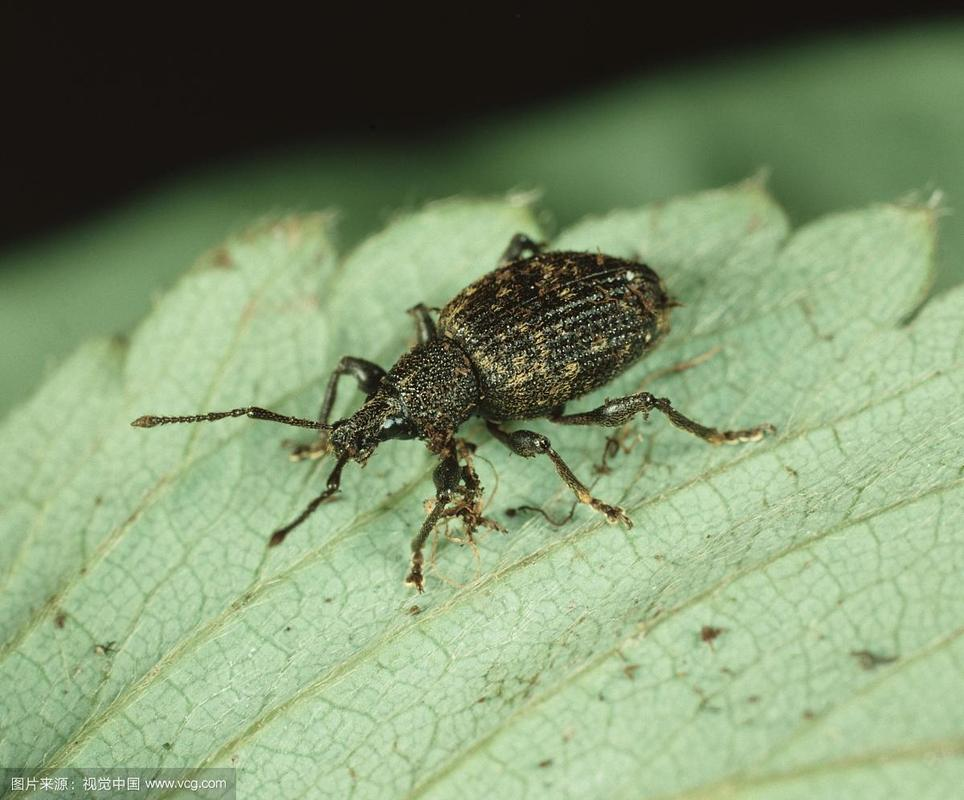Curculionidae: (130, 232, 776, 597)
